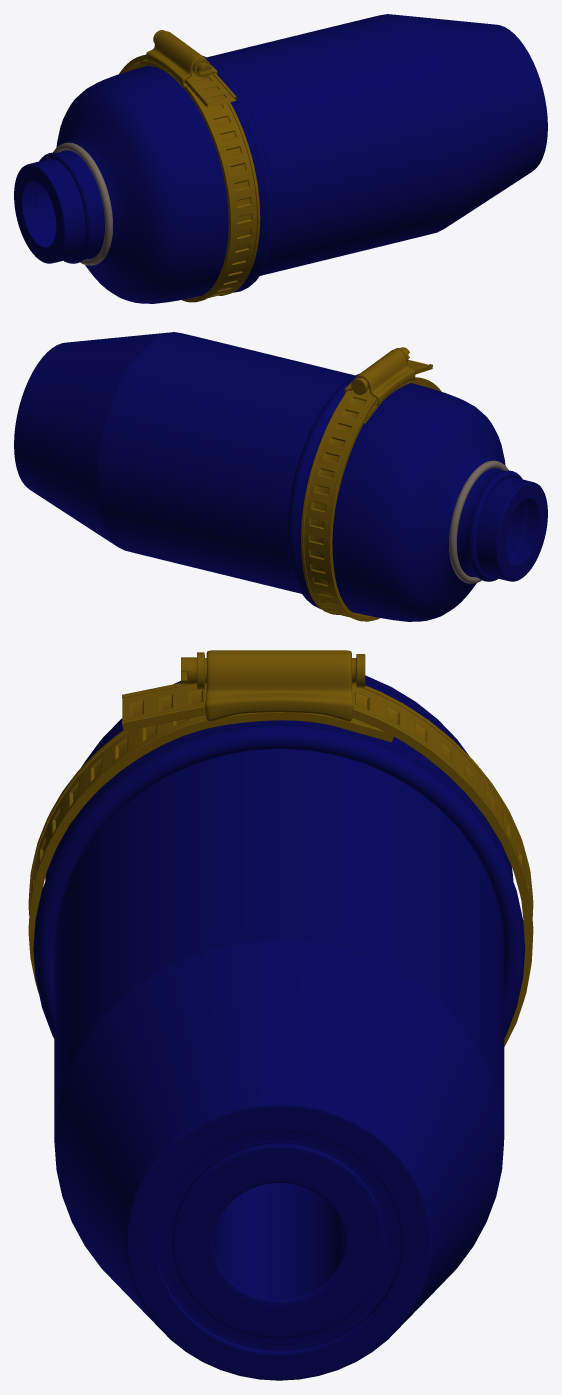
Rendered from muzzle_05.fbx.
3 views of the same model, one above another, from view 1: azimuth 30°, elevation 25°; view 2: azimuth 150°, elevation 25°; view 3: azimuth 270°, elevation 25° (orthographic). The views are drawn at different scales.
Parts seen in each view (by area): view 1: Circle.002; view 2: Circle.002; view 3: Circle.002.
Boxes of the visible parts, box(x1,y1,x2,y2) form: Circle.002: box(14, 14, 547, 303); Circle.002: box(14, 332, 547, 621); Circle.002: box(28, 650, 533, 1380).
Bounding box in the file's own units: 37.34 × 18.68 × 17.32.
